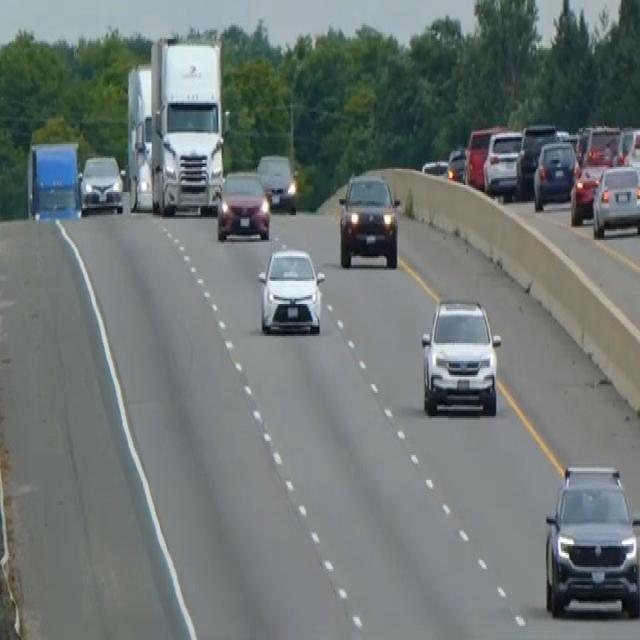car: (543, 461, 639, 618), (257, 244, 326, 336), (215, 167, 271, 240), (591, 162, 639, 238), (532, 137, 578, 210), (515, 121, 557, 195), (482, 128, 523, 199), (78, 153, 124, 215), (463, 122, 503, 188), (256, 151, 297, 213), (446, 144, 467, 183)
jeep: (419, 294, 502, 419), (337, 172, 401, 268)
lorry: (149, 34, 225, 215), (26, 137, 82, 220)
